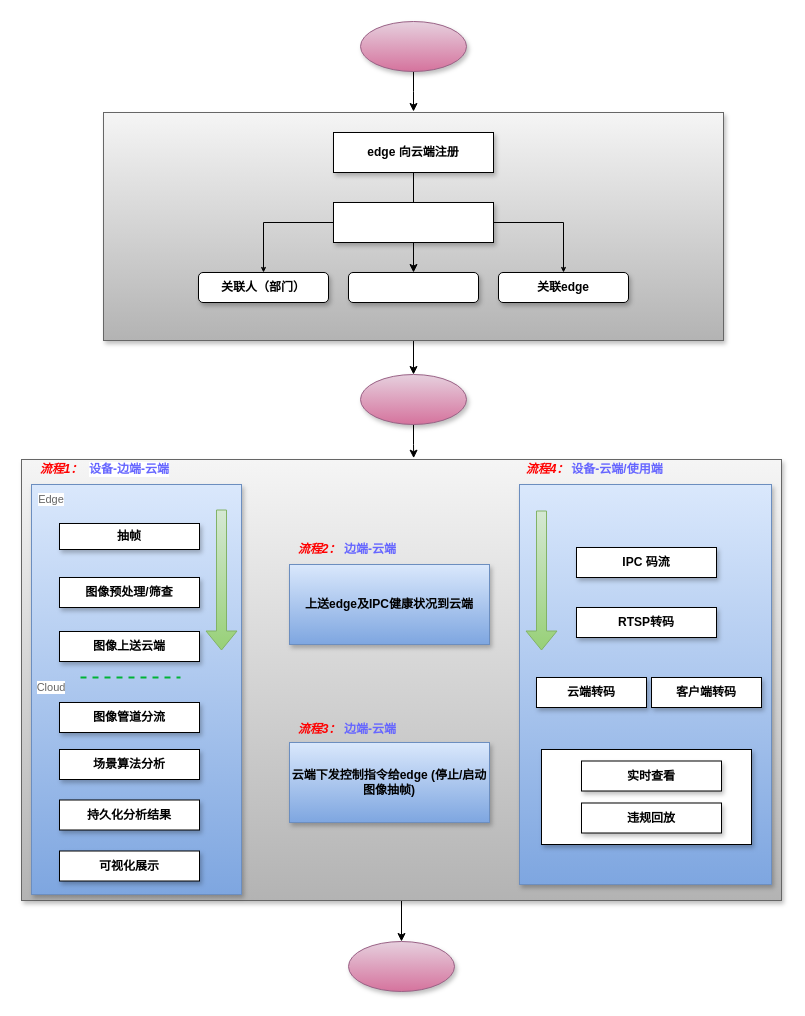
This 805x1016 diagram has some shape labels left out. The centre of each missing label's shape, as x and y in pixels:
云端配置nvr/ipc: (414,224)
关联应用场景: (414,289)
结束: (402,967)
运行: (414,401)
配置: (414,47)
